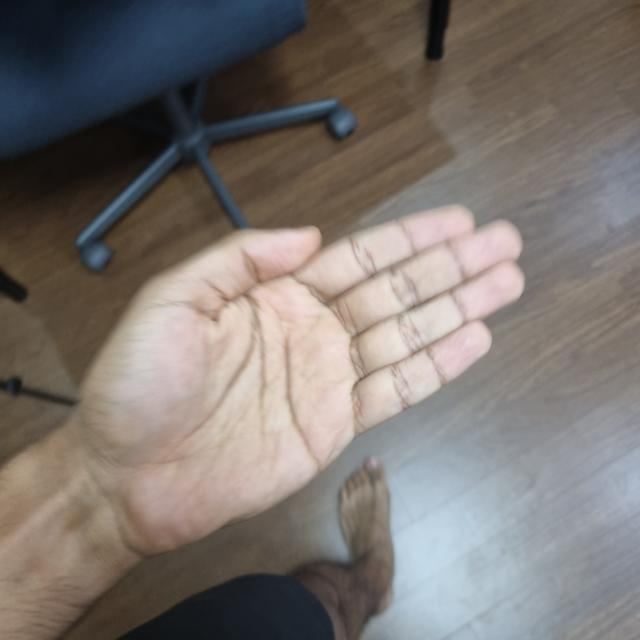Paper: (89, 211, 524, 541)
